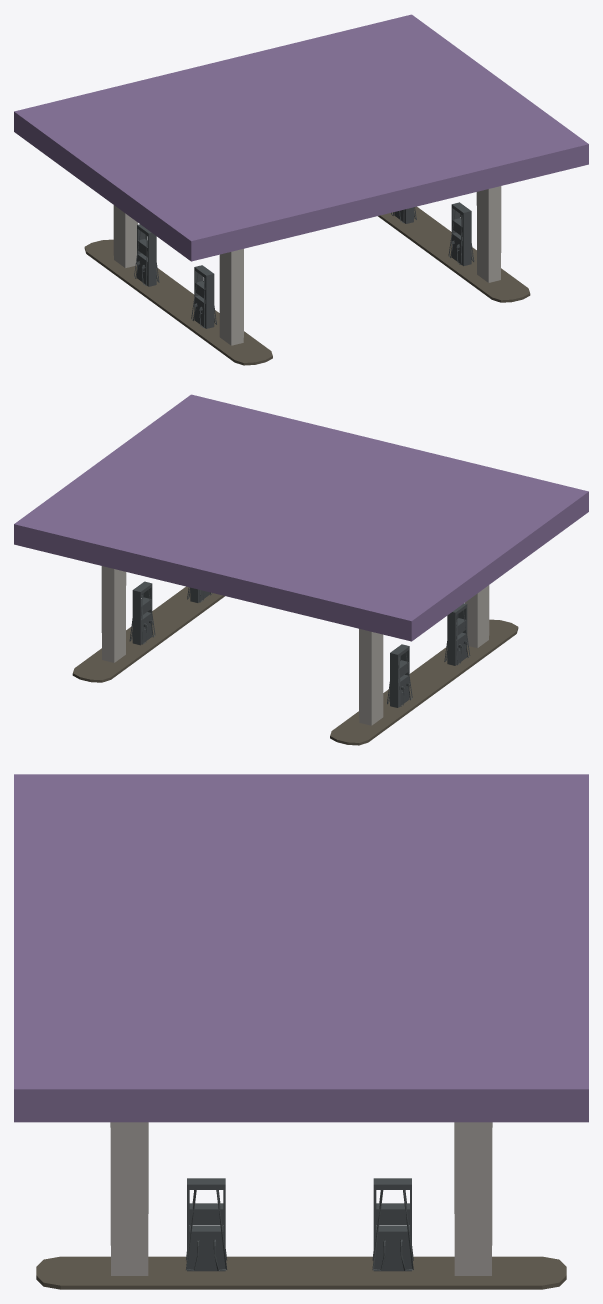
File: gas-forecourt.lod1.glb
3 renders of one model, top to bottom at view 1: azimuth 30°, elevation 25°; view 2: azimuth 150°, elevation 25°; view 3: azimuth 270°, elevation 25°, orthographic. The views are drawn at different scales.
Visible parts, largest first — view 1: Sidewalk_Asphalt_0; view 2: Sidewalk_Asphalt_0; view 3: Sidewalk_Asphalt_0.
Part boxes in pixels (box(x1,y1,x2,y2)): Sidewalk_Asphalt_0: box(14, 14, 588, 365); Sidewalk_Asphalt_0: box(14, 394, 588, 745); Sidewalk_Asphalt_0: box(14, 774, 588, 1289).
Size of the model in its own units: 21.67 by 7.6 by 16.73.
